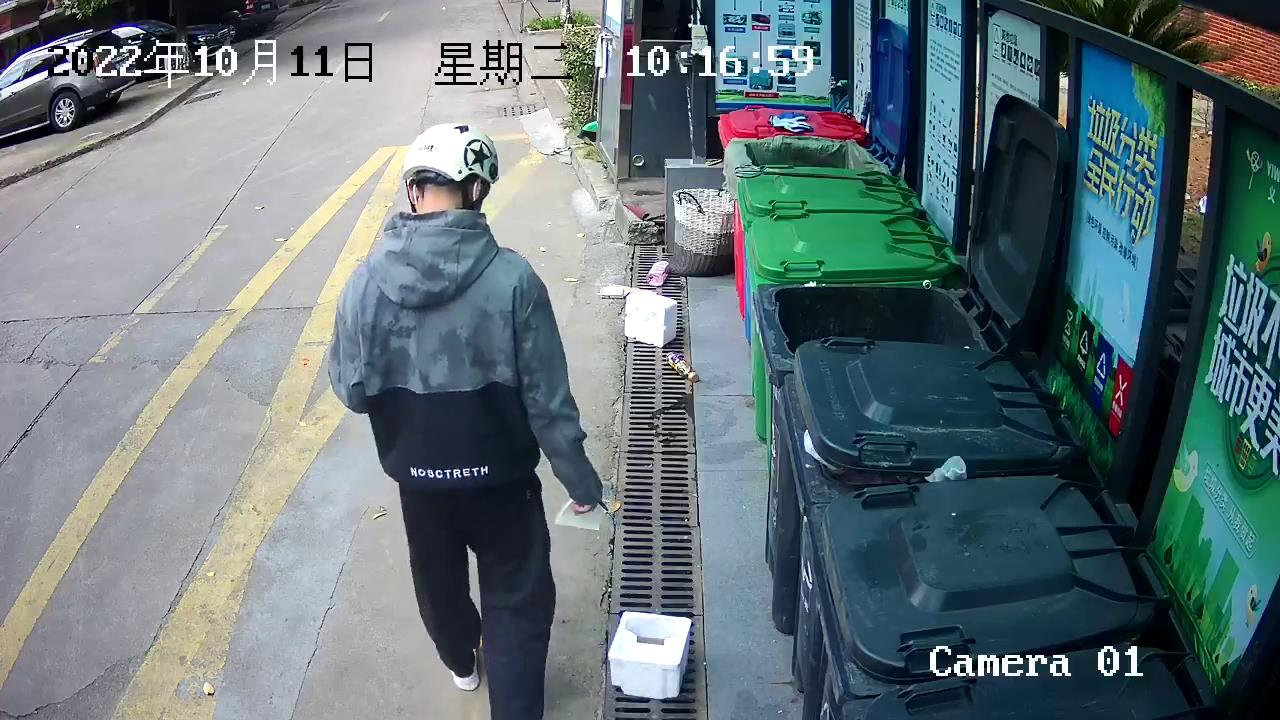paomozhipin: (601, 609, 697, 703)
person: (324, 117, 612, 720)
suliaozhipin: (662, 345, 705, 388), (643, 256, 674, 288)
zhizhipin: (620, 287, 683, 350)
